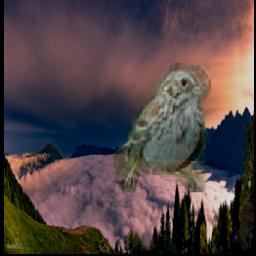Sparrow: (113, 63, 211, 192)
